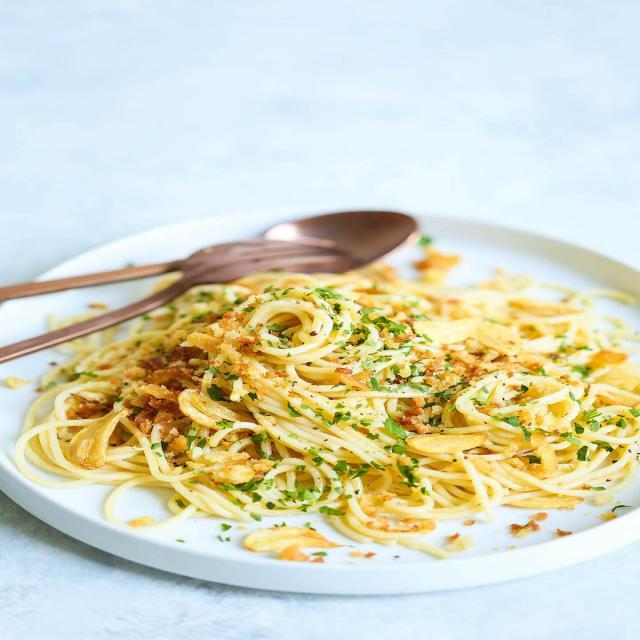Oil pasta: (49, 211, 640, 559)
